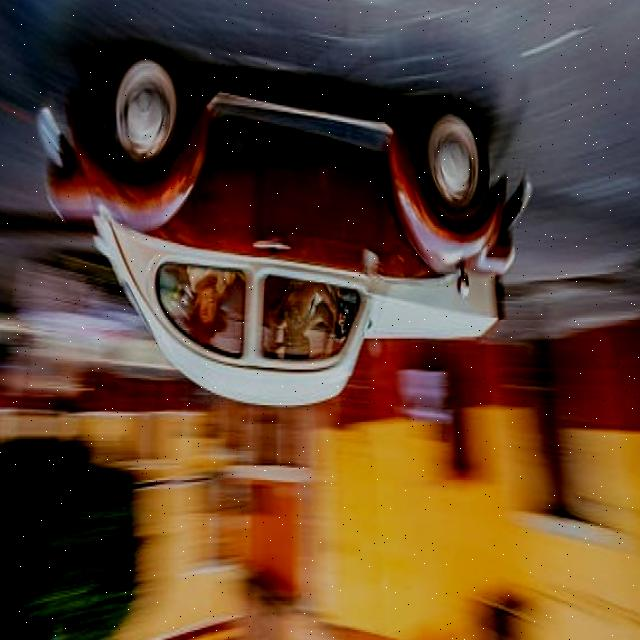car: (54, 88, 511, 390)
